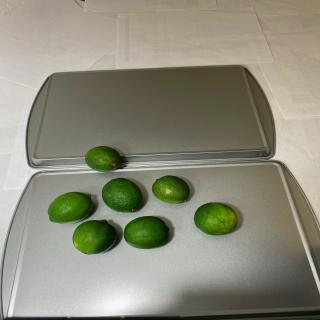Chilli: (85, 146, 121, 172)
Lemon: (72, 220, 117, 254), (47, 191, 93, 224), (124, 216, 170, 249), (194, 202, 238, 235), (101, 178, 143, 212), (152, 175, 190, 204)
